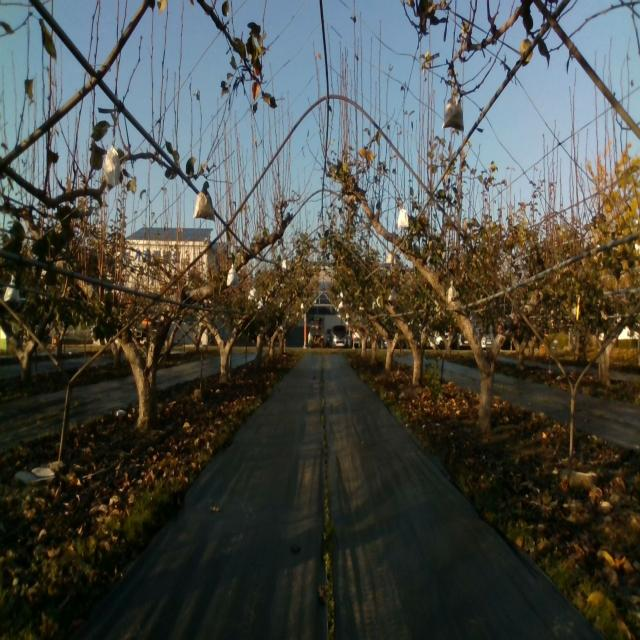pearbags: (193, 179, 216, 222), (441, 93, 464, 131), (102, 145, 121, 187), (397, 204, 410, 229), (227, 264, 240, 287)
